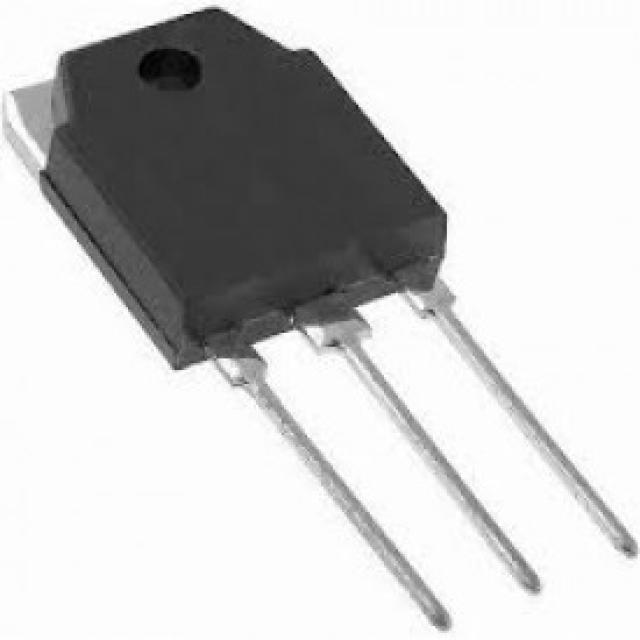Transistor: (9, 14, 629, 628)
